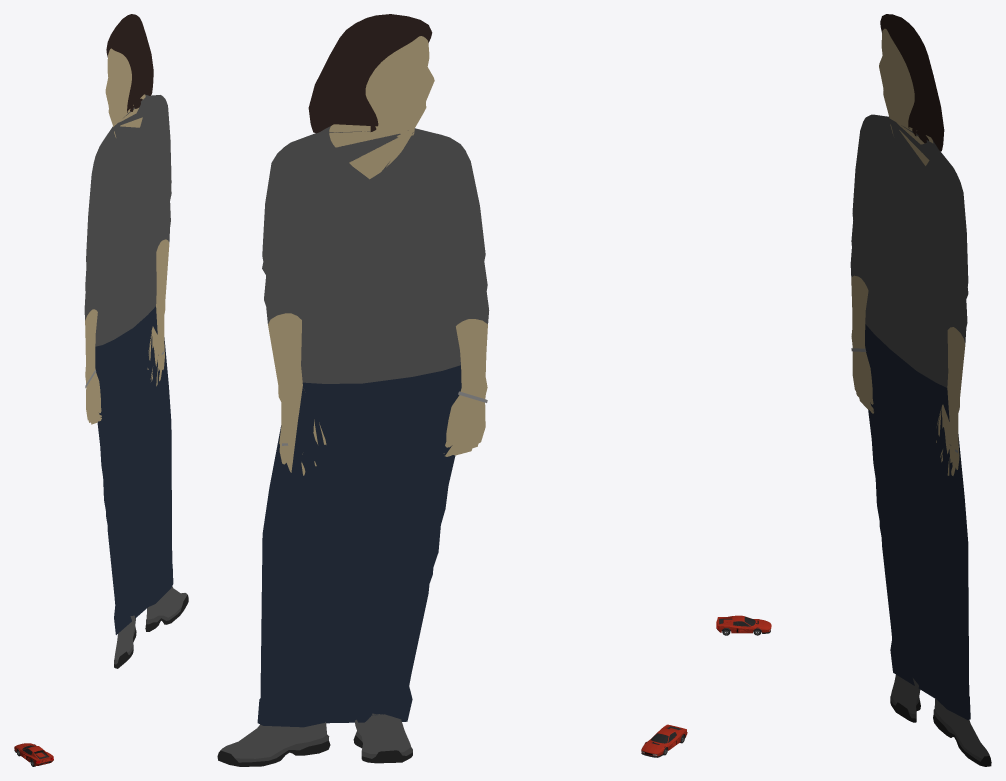
Rendered from Car_orange.obj.
The picture shows the model from 3 angles, left to right: view 1: azimuth 30°, elevation 25°; view 2: azimuth 150°, elevation 25°; view 3: azimuth 270°, elevation 25°; orthographic projection. The views are drawn at different scales.
Parts seen in each view (by area): view 1: Mesh1 Susan1 Model; view 2: Mesh1 Susan1 Model; view 3: Mesh1 Susan1 Model.
Boxes of the visible parts, bbox=[...] form: Mesh1 Susan1 Model: bbox=[84, 14, 188, 668]; Mesh1 Susan1 Model: bbox=[217, 14, 489, 766]; Mesh1 Susan1 Model: bbox=[850, 14, 991, 766].
Size of the model in its own units: 30.12 by 66.66 by 23.77.
